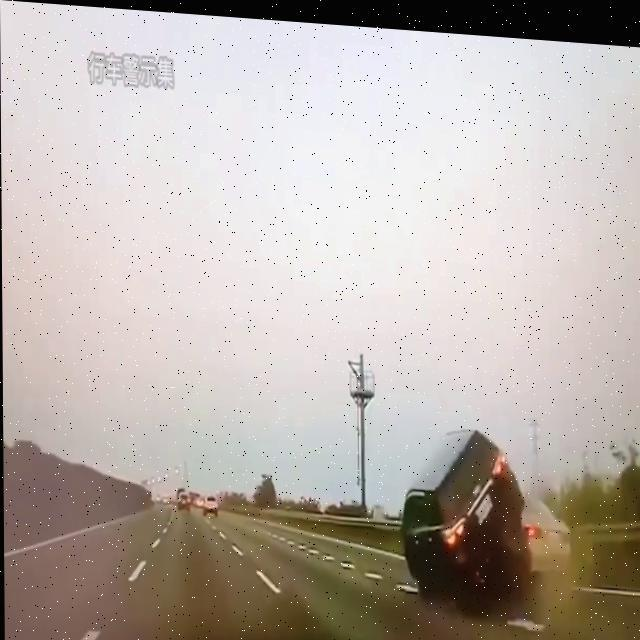multiple_accident: (356, 410, 600, 615)
